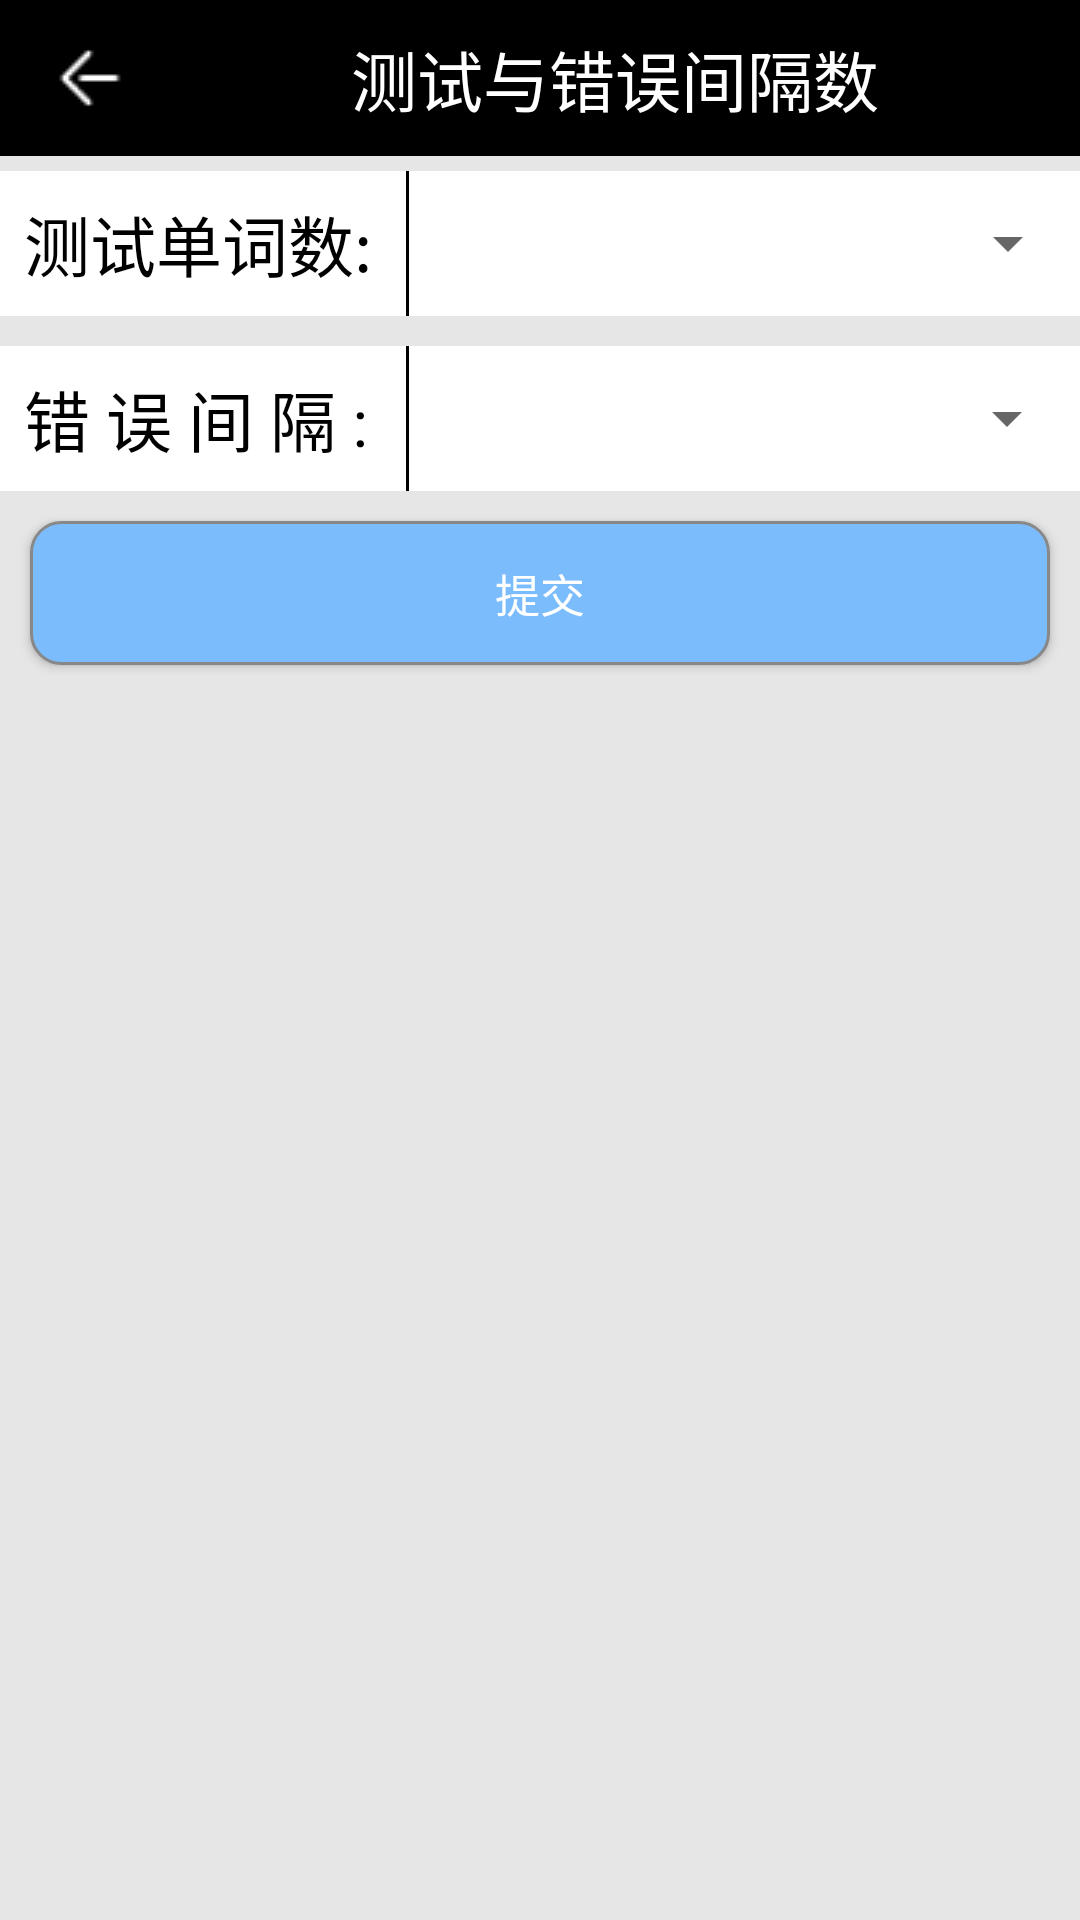

Where to tap for icons on this 1080 x 1920 app screen, as (x=x, y=y):
back: (x=90, y=78)
